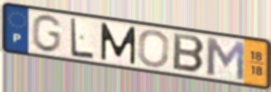B: (171, 31, 207, 75)
G: (30, 13, 64, 55)
L: (69, 16, 96, 61)
M: (204, 35, 246, 83), (99, 21, 138, 66)
O: (137, 29, 171, 69)
